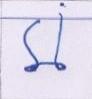anusvara: (60, 3, 65, 8)
